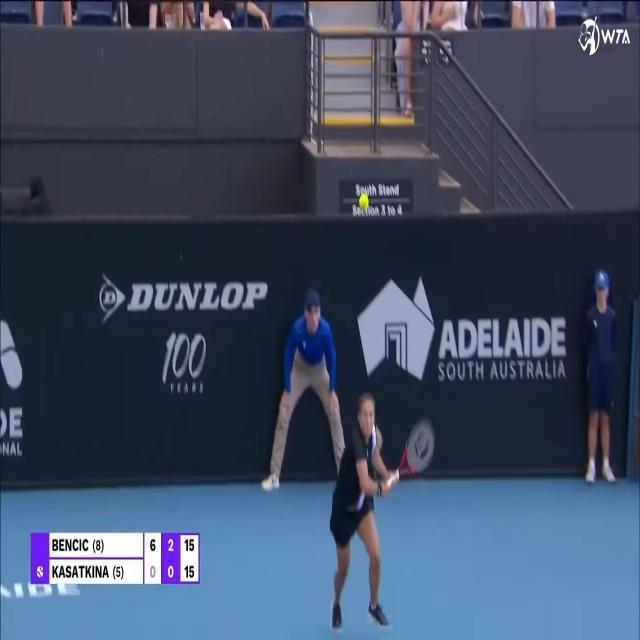player: (329, 393, 391, 631)
tennis ball: (359, 191, 369, 211)
tennis racket: (394, 418, 435, 479)
